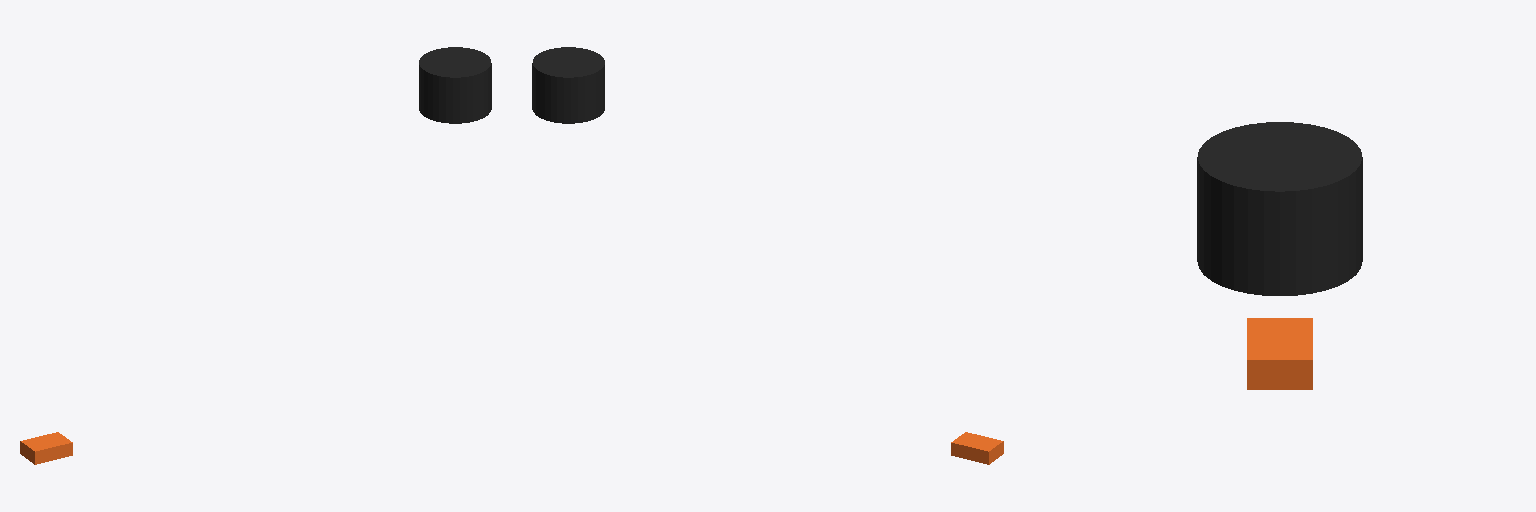
robot.urdf — cartographer_backpack_3d:
<!--
  Copyright 2016 The Cartographer Authors
  Licensed under the Apache License, Version 2.0 (the "License");
  you may not use this file except in compliance with the License.
  You may obtain a copy of the License at
       http://www.apache.org/licenses/LICENSE-2.0
  Unless required by applicable law or agreed to in writing, software
  distributed under the License is distributed on an "AS IS" BASIS,
  WITHOUT WARRANTIES OR CONDITIONS OF ANY KIND, either express or implied.
  See the License for the specific language governing permissions and
  limitations under the License.
-->

<robot name="cartographer_backpack_3d">
  <material name="orange">
    <color rgba="1.0 0.5 0.2 1" />
  </material>
  <material name="gray">
    <color rgba="0.2 0.2 0.2 1" />
  </material>

  <link name="imu_link">
    <visual>
      <origin xyz="0.0 0.0 0.0" />
      <geometry>
        <box size="0.06 0.04 0.02" />
      </geometry>
      <material name="orange" />
    </visual>
  </link>

  <link name="velodyne">
    <visual>
      <origin xyz="0.0 0.0 0.0" />
      <geometry>
        <cylinder length="0.07" radius="0.05" />
      </geometry>
      <material name="gray" />
    </visual>
  </link>

  <link name="base_link" />

  <joint name="imu_link_joint" type="fixed">
    <parent link="base_link" />
    <child link="imu_link" />
    <origin xyz="0 0 0" rpy="3.14159 0 0" />
  </joint>

  <joint name="velodyne_link_joint" type="fixed">
    <parent link="base_link" />
    <child link="velodyne" />
    <origin xyz="0.65 0 0.4" rpy="3.14159 0.0 0" />
  </joint>

</robot>

--- Render facts (derived) ---
The picture shows the robot from 3 angles, left to right: view 1: azimuth 30°, elevation 25°; view 2: azimuth 150°, elevation 25°; view 3: azimuth 270°, elevation 25°; orthographic projection.
Model cartographer_backpack_3d with 3 links and 2 joints (2 fixed), rooted at base_link, posed all joints at 0.
Visible links, largest first — view 1: velodyne, imu_link; view 2: velodyne, imu_link; view 3: velodyne, imu_link.
Boxes of the visible links, x1,y1,x2,y2 form: velodyne: (419,47,491,123); imu_link: (20,432,72,464); velodyne: (532,47,604,123); imu_link: (951,432,1003,464); velodyne: (1197,122,1362,295); imu_link: (1247,318,1312,389).
Bounding box of the posed robot: 0.73 × 0.1 × 0.445 m (x, y, z).
Geometry: primitives only (box / cylinder / sphere), no mesh files.
